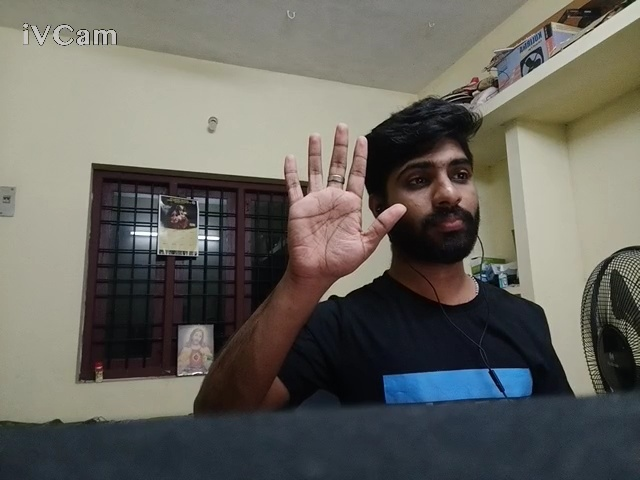Hello: (261, 113, 414, 309)
